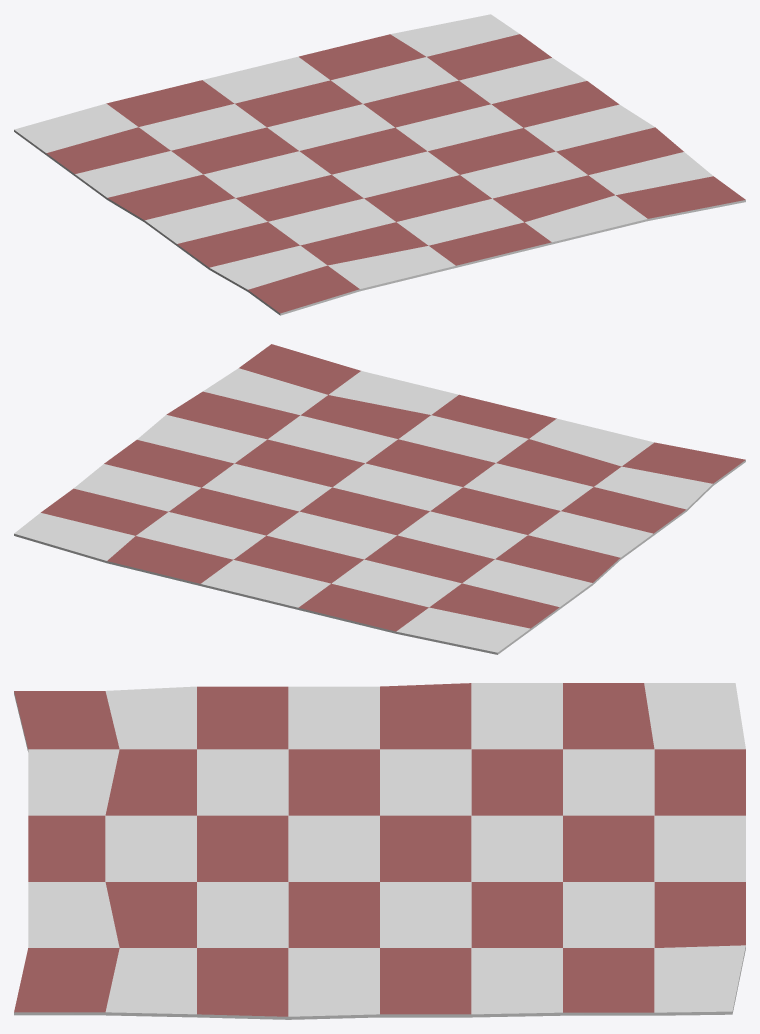
Rendered from nappe.fbx.
3 views of the same model, one above another, from view 1: azimuth 30°, elevation 25°; view 2: azimuth 150°, elevation 25°; view 3: azimuth 270°, elevation 25° (orthographic). The views are drawn at different scales.
Visible parts, largest first — view 1: nappe; view 2: nappe; view 3: nappe.
Part boxes in pixels (x1=…): nappe: x1=14, y1=14, x2=745, y2=315; nappe: x1=14, y1=344, x2=745, y2=654; nappe: x1=14, y1=683, x2=745, y2=1019.
Size of the model in its own units: 7.77 by 0.0339 by 7.2.
